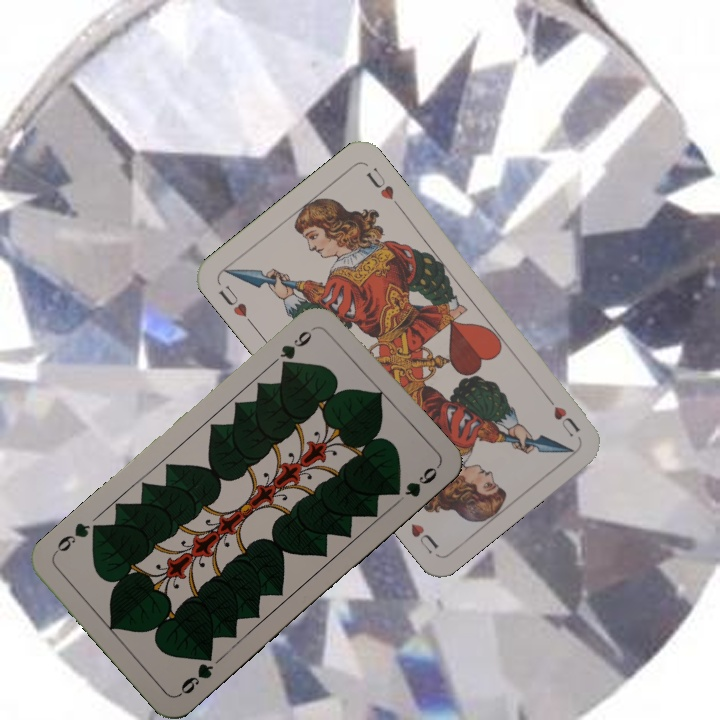G9: (174, 647, 217, 699), (275, 326, 315, 371)
HU: (214, 280, 257, 329), (540, 390, 582, 440)
